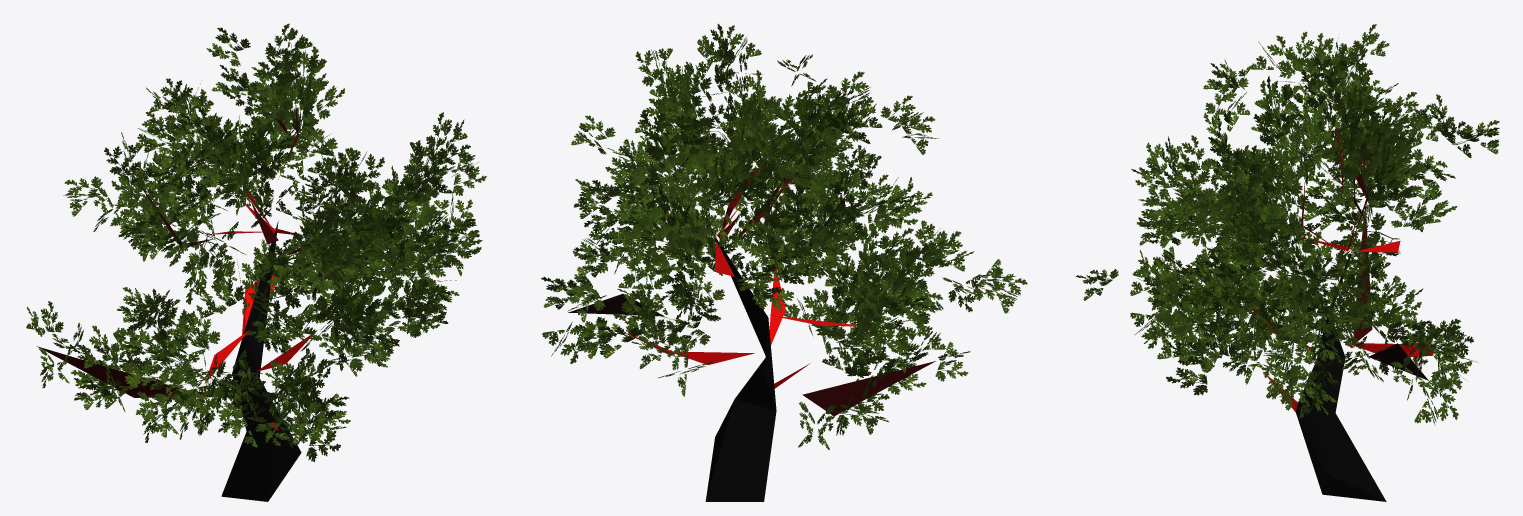
The model's file is oak1 lod4.FBX.
The picture shows the model from 3 angles, left to right: view 1: azimuth 30°, elevation 25°; view 2: azimuth 150°, elevation 25°; view 3: azimuth 270°, elevation 25°; orthographic projection. The views are drawn at different scales.
Visible parts, largest first — view 1: oak1_LOD4; view 2: oak1_LOD4; view 3: oak1_LOD4.
Part boxes in pixels (box(x1,y1,x2,y2)): oak1_LOD4: box(26, 23, 486, 501); oak1_LOD4: box(541, 24, 1027, 501); oak1_LOD4: box(1076, 24, 1499, 501).
Size of the model in its own units: 96944 by 100814 by 84924.
